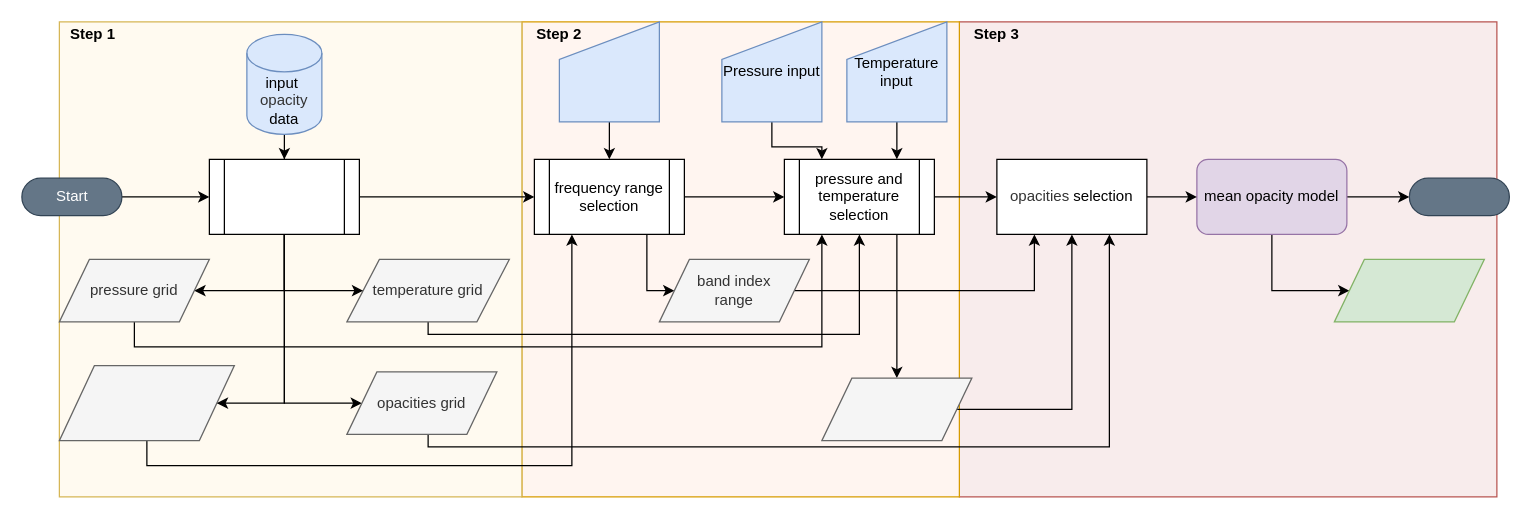
The diagram is 1531 pixels wide and 519 high, and some of its shapes have lost their labels. Each missing label, with the box of its shape:
End: (1408, 177, 1509, 216)
FileLoader: (208, 158, 359, 234)
investigated band: (558, 21, 659, 122)
mean opacity: (1333, 258, 1484, 322)
opacities index: (821, 377, 972, 441)
wavenumber grid wavelength grid frequency grid: (58, 364, 234, 441)
